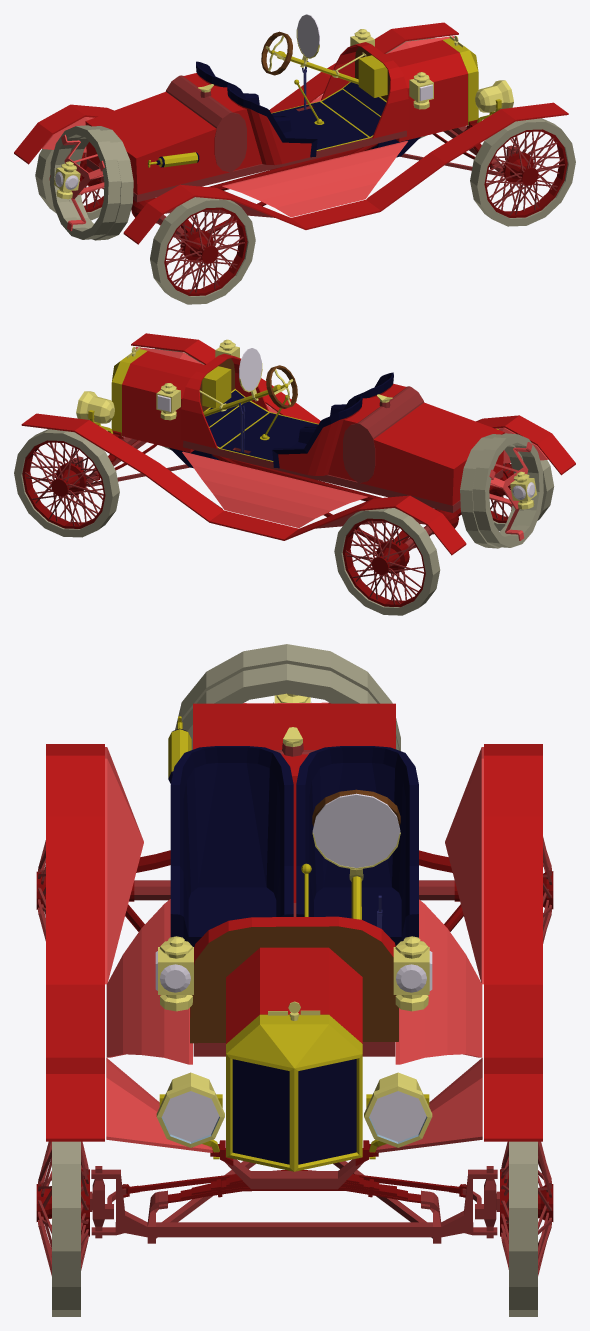
3 renders of one model, top to bottom at view 1: azimuth 30°, elevation 25°; view 2: azimuth 150°, elevation 25°; view 3: azimuth 270°, elevation 25°, orthographic. The views are drawn at different scales.
Visible parts, largest first — view 1: Cube.001, Cube.002, Cube.045, Cube, Cube.004, Cylinder.020, Cylinder.016, Cylinder, Cube.003, Cube.123, Cube.121, Cylinder.001 (+21 smaller); view 2: Cube.001, Cube.002, Cube.045, Cube, Cube.004, Cylinder.020, Cylinder.054, Cylinder.014, Cube.003, Cube.122, Cube.123, Cylinder.001 (+20 smaller); view 3: Cube.001, Cube.121, Cube.044, Cube.045, Cube.122, Cube.123, Cube.126, Cube.135, Cube.004, Cube.002, Cube.125, Cylinder (+16 smaller).
Part boxes in pixels (x1,y1,x2,y2): Cube.001: [14, 22, 568, 244]; Cube.002: [85, 91, 229, 194]; Cube.045: [222, 141, 407, 217]; Cube: [86, 82, 406, 202]; Cube.004: [385, 40, 467, 141]; Cylinder.020: [50, 125, 120, 239]; Cylinder.016: [150, 197, 255, 304]; Cylinder: [470, 118, 575, 226]; Cube.003: [166, 75, 246, 172]; Cube.123: [321, 42, 408, 138]; Cube.121: [227, 84, 317, 165]; Cylinder.001: [69, 126, 133, 240]; Cube.001: [21, 333, 575, 555]; Cube.002: [360, 402, 504, 505]; Cube.045: [182, 451, 367, 527]; Cube: [183, 389, 503, 512]; Cube.004: [122, 351, 204, 452]; Cylinder.020: [472, 433, 543, 547]; Cylinder.054: [334, 508, 440, 615]; Cylinder.014: [14, 429, 119, 537]; Cube.003: [343, 386, 424, 482]; Cube.122: [272, 395, 362, 475]; Cube.123: [181, 353, 268, 448]; Cylinder.001: [460, 434, 523, 548]; Cube.001: [46, 744, 542, 1141]; Cube.121: [170, 746, 293, 947]; Cube.044: [226, 1014, 362, 1171]; Cube.045: [106, 899, 482, 1064]; Cube.122: [296, 746, 418, 945]; Cube.123: [190, 916, 398, 1043]; Cube.126: [105, 747, 483, 984]; Cube.135: [91, 1161, 497, 1243]; Cube.004: [226, 947, 362, 1043]; Cube.002: [193, 703, 395, 749]; Cube.125: [106, 1058, 482, 1152]; Cylinder: [52, 1141, 80, 1316].
Bounding box in the file's own units: 928 × 364 × 453.
